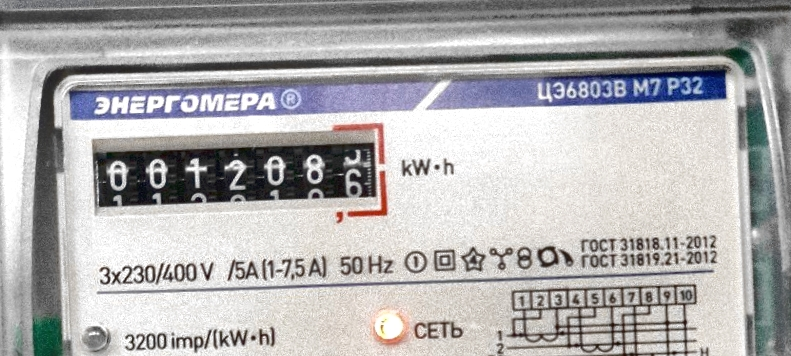0: (261, 150, 288, 186), (144, 152, 169, 190), (106, 154, 128, 192)
1: (185, 152, 204, 190)
2: (223, 155, 250, 191)
6: (340, 162, 365, 198)
8: (300, 149, 325, 186)
screen: (80, 111, 398, 244)
